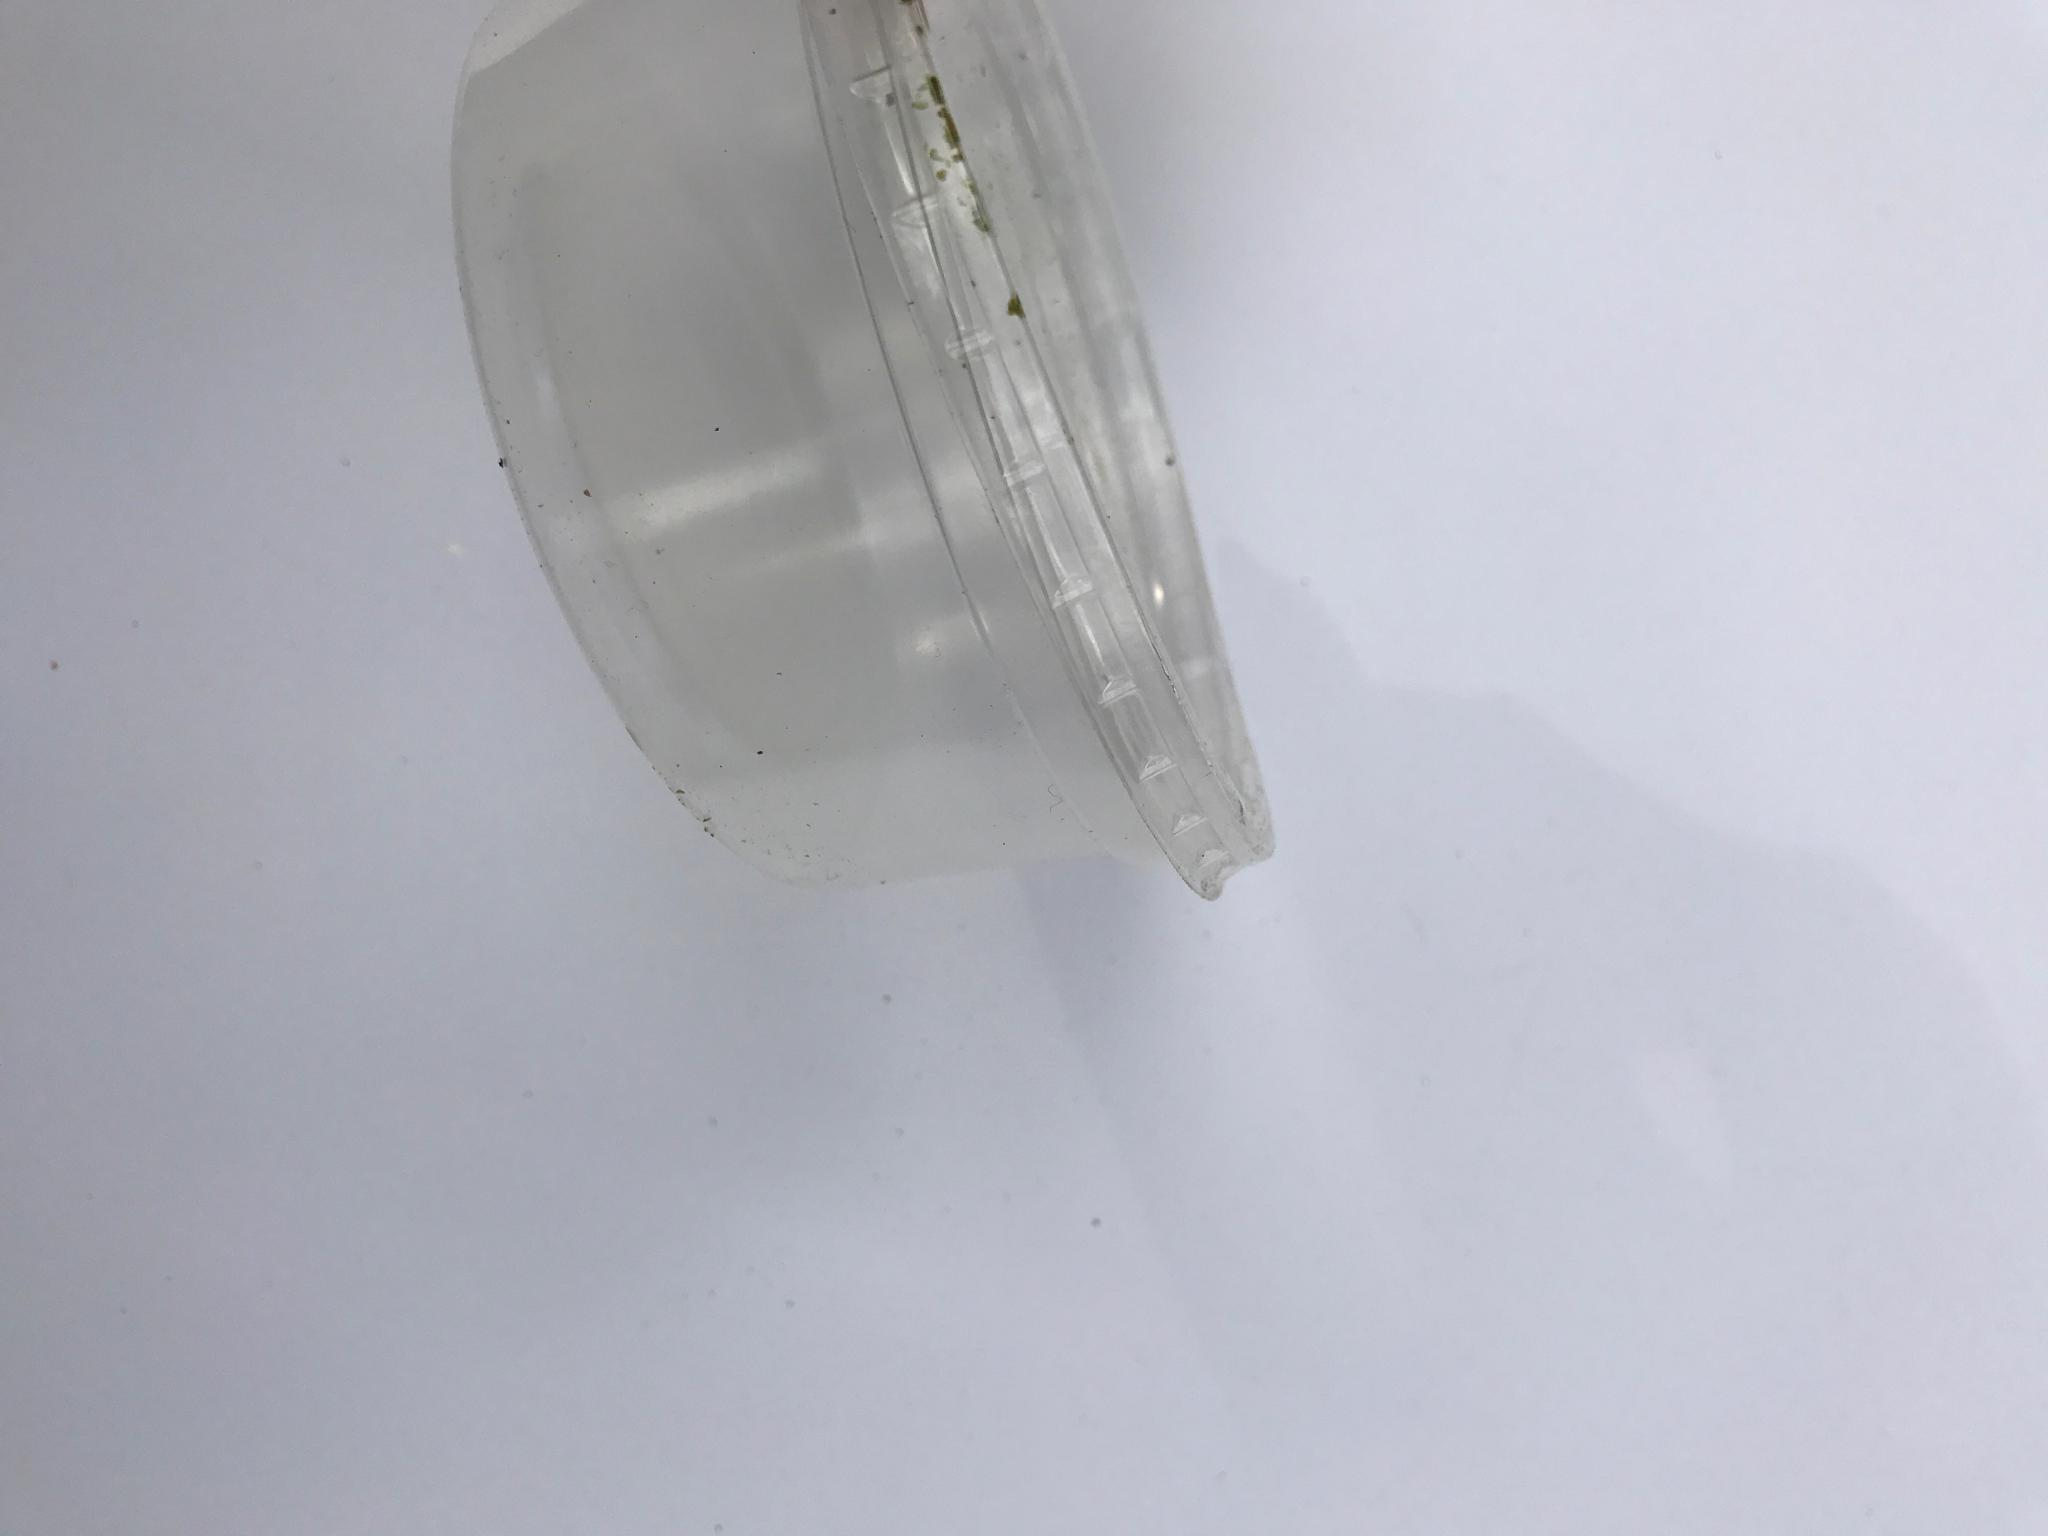Plastic: (429, 0, 1287, 937)
